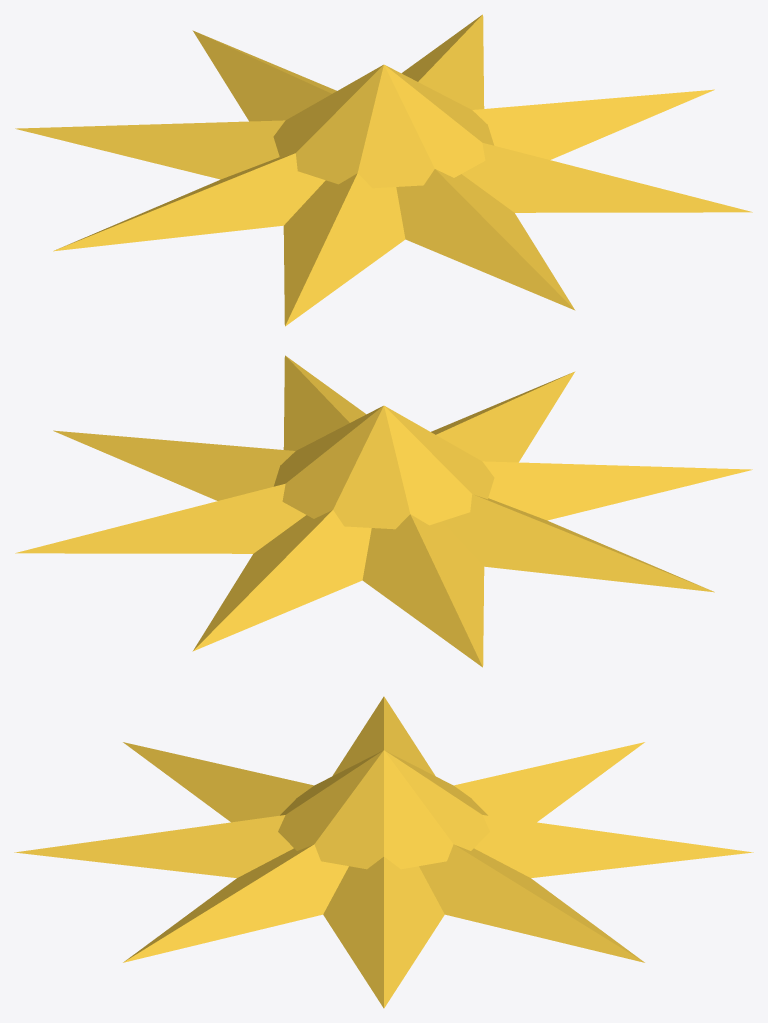
3 renders of one model, top to bottom at view 1: azimuth 30°, elevation 25°; view 2: azimuth 150°, elevation 25°; view 3: azimuth 270°, elevation 25°, orthographic. The views are drawn at different scales.
Visible parts, largest first — view 1: 八芒金色顶冠.001; view 2: 八芒金色顶冠.001; view 3: 八芒金色顶冠.001.
Boxes of the visible parts, x1,y1,x2,y2 form: 八芒金色顶冠.001: (15,14,752,326); 八芒金色顶冠.001: (15,355,752,667); 八芒金色顶冠.001: (14,696,753,1008).
Size of the model in its own units: 0.72 by 0.119 by 0.72.
